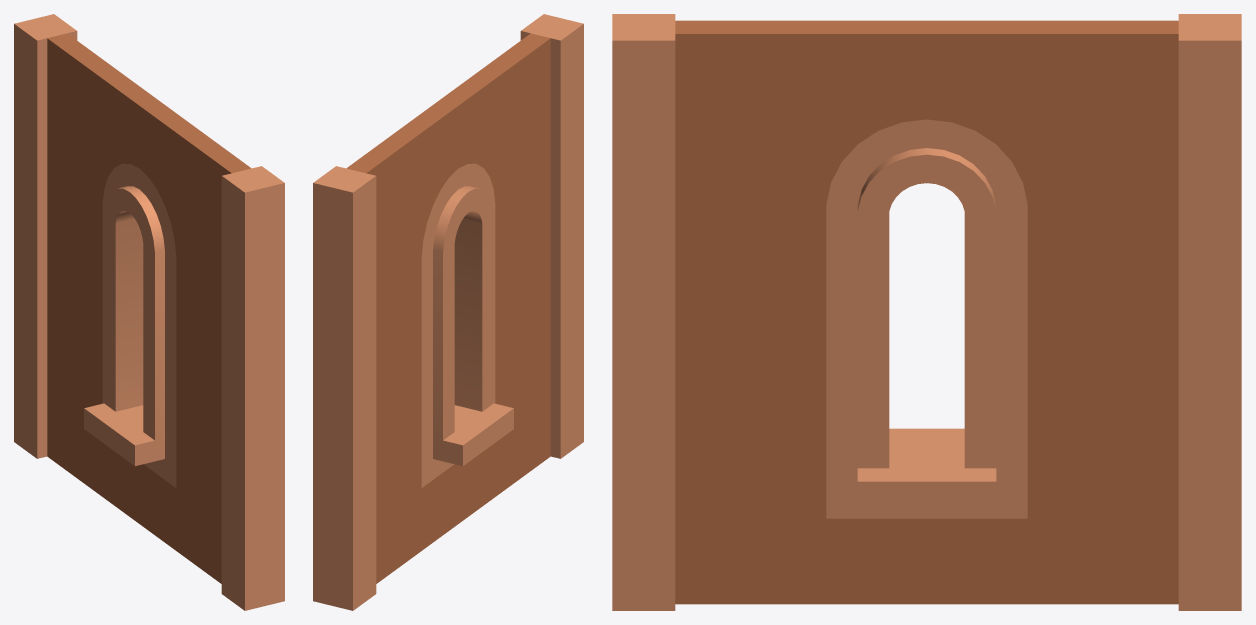
File: wallWoodWindowRound.glb
3 renders of one model, left to right at view 1: azimuth 30°, elevation 25°; view 2: azimuth 150°, elevation 25°; view 3: azimuth 270°, elevation 25°, orthographic. The views are drawn at different scales.
Parts seen in each view (by area): view 1: wallWoodWindowRound; view 2: wallWoodWindowRound; view 3: wallWoodWindowRound.
Part boxes in pixels (x1=…): wallWoodWindowRound: x1=14, y1=14, x2=284, y2=610; wallWoodWindowRound: x1=313, y1=14, x2=583, y2=610; wallWoodWindowRound: x1=612, y1=14, x2=1241, y2=610.
Bounding box in the file's own units: 0.2 × 1 × 1.
